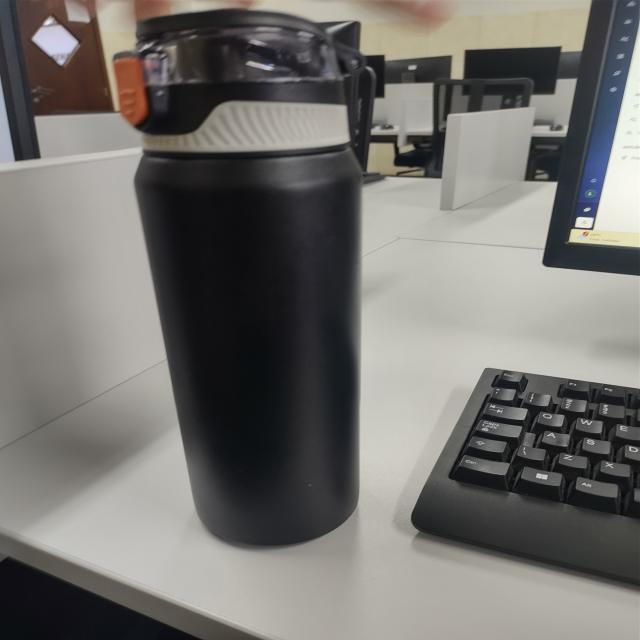Garrafa: (107, 0, 448, 560)
